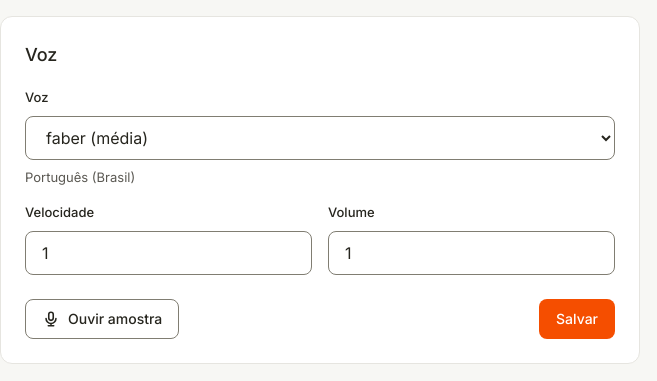
VoiceSettingsForm: Ouvir amostra › falha de rede mostra a mensagem de rede
The width and height of the screenshot is (657, 381).
Click the button "Ouvir amostra": (102, 318) [25, 298, 179, 338]
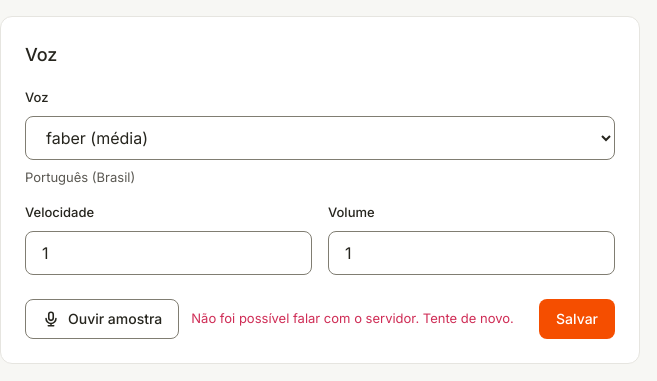
Now the message reads "Não foi possível falar com o servidor. Tente de novo.", box [191, 310, 514, 326]
